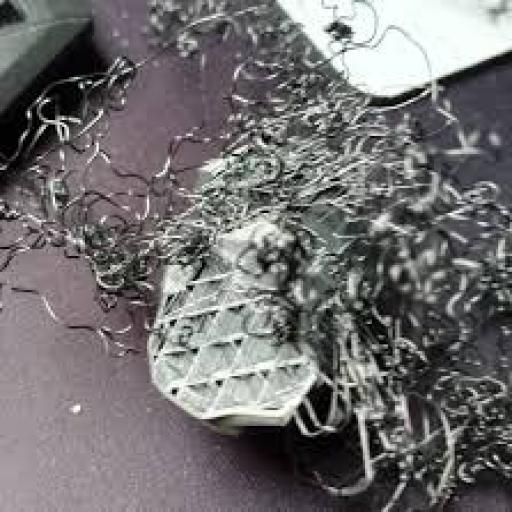spaghetti: (183, 101, 512, 363), (4, 45, 158, 368), (162, 8, 502, 93), (312, 369, 505, 496)
